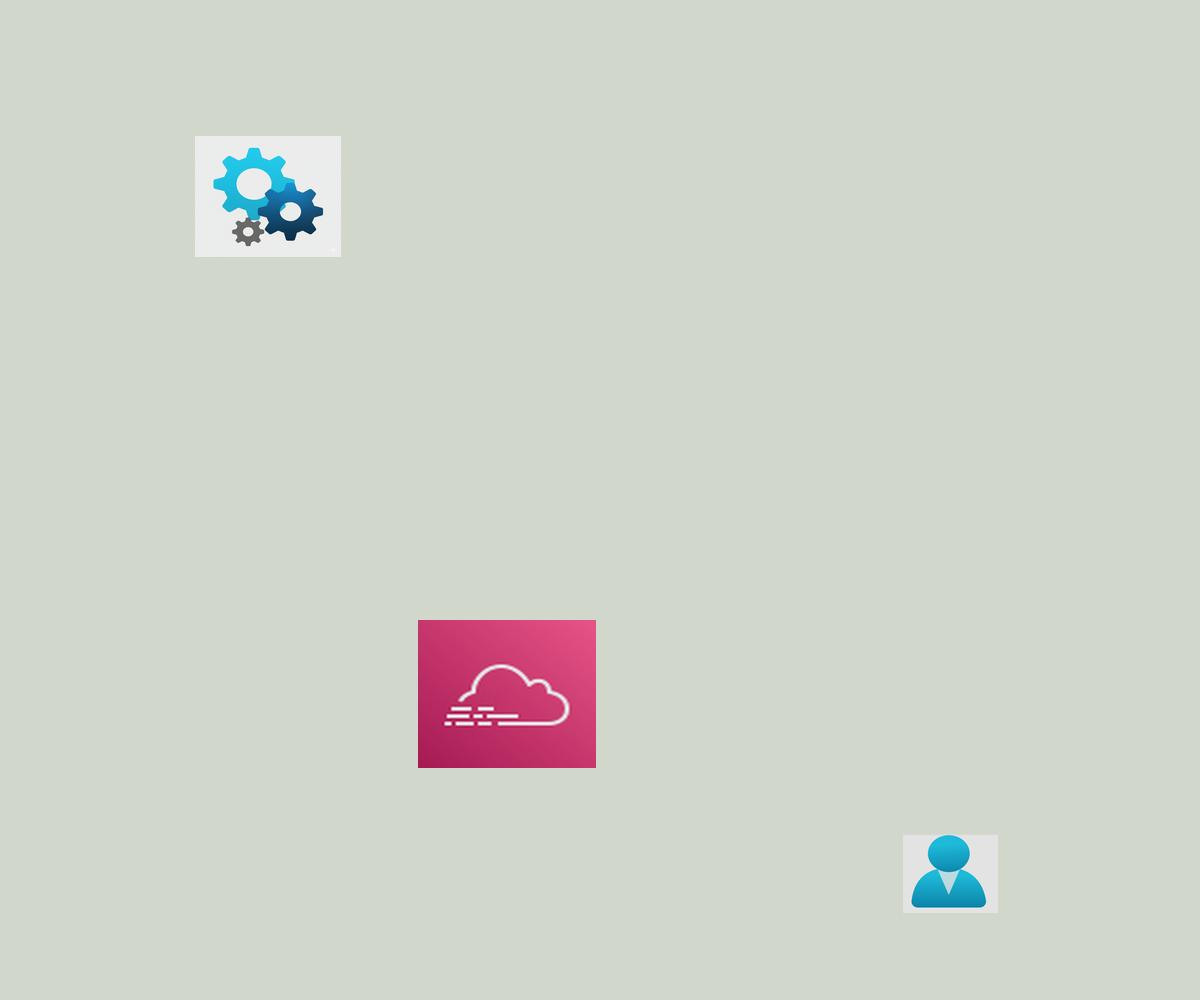AWS-CloudTrail: (418, 620, 596, 768)
Azure_api: (195, 136, 341, 257)
Azure_users: (903, 834, 998, 913)
